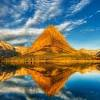mountain: (19, 28, 95, 62)
sky: (1, 2, 100, 43)
